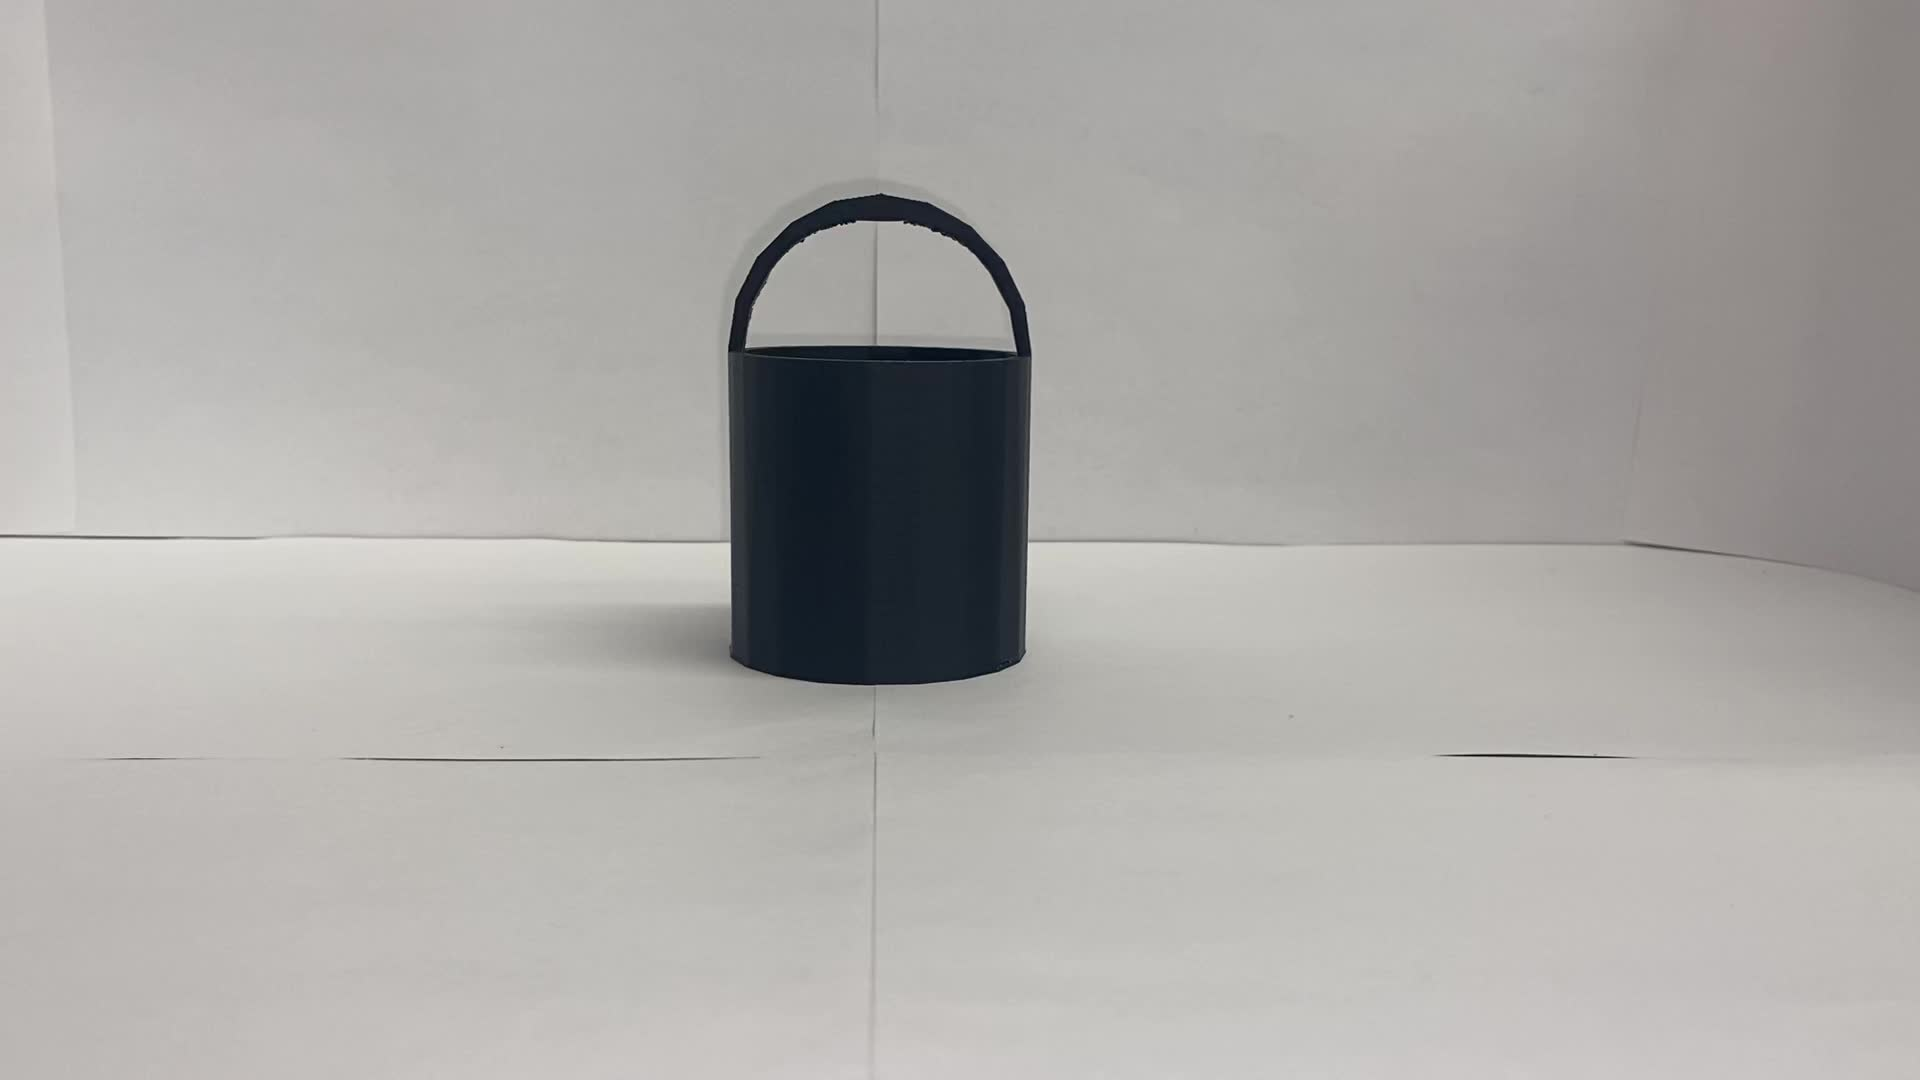bag: (713, 195, 1040, 698)
